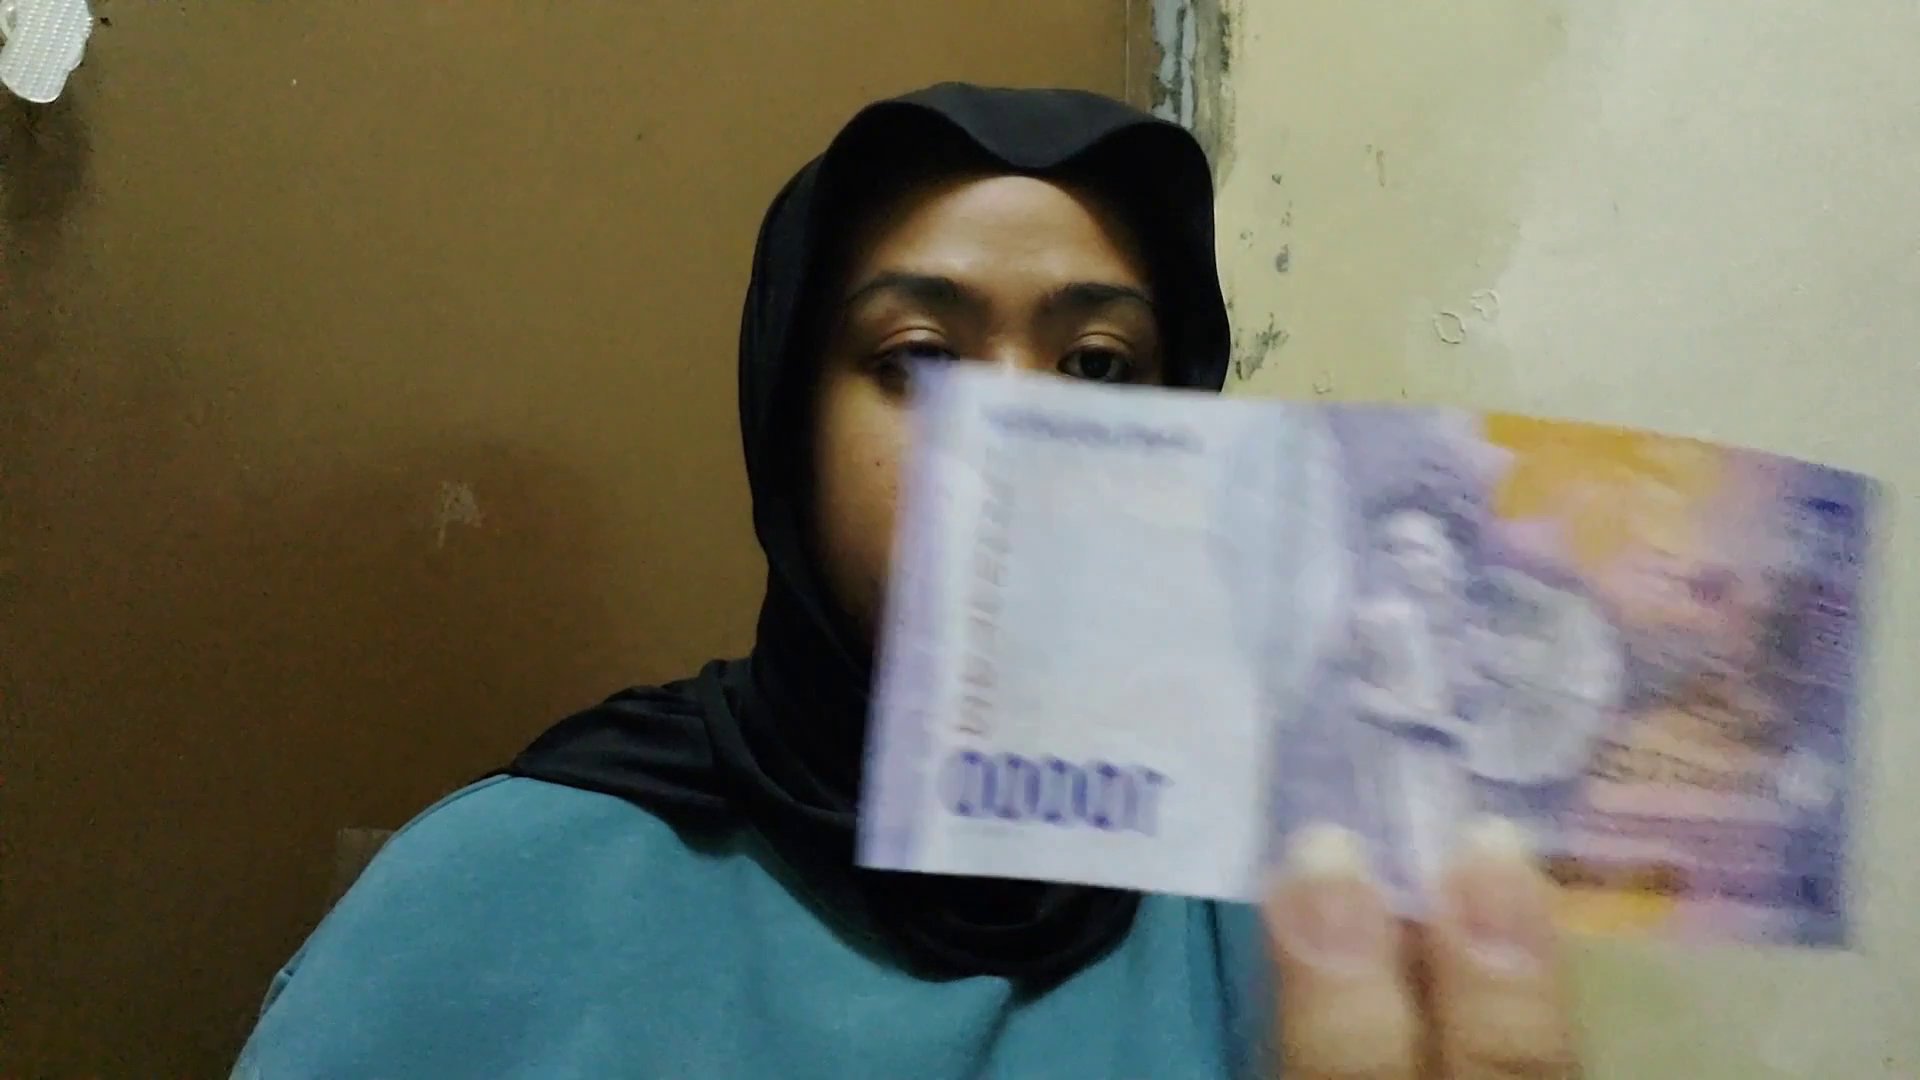10k: (905, 365, 1861, 948)
